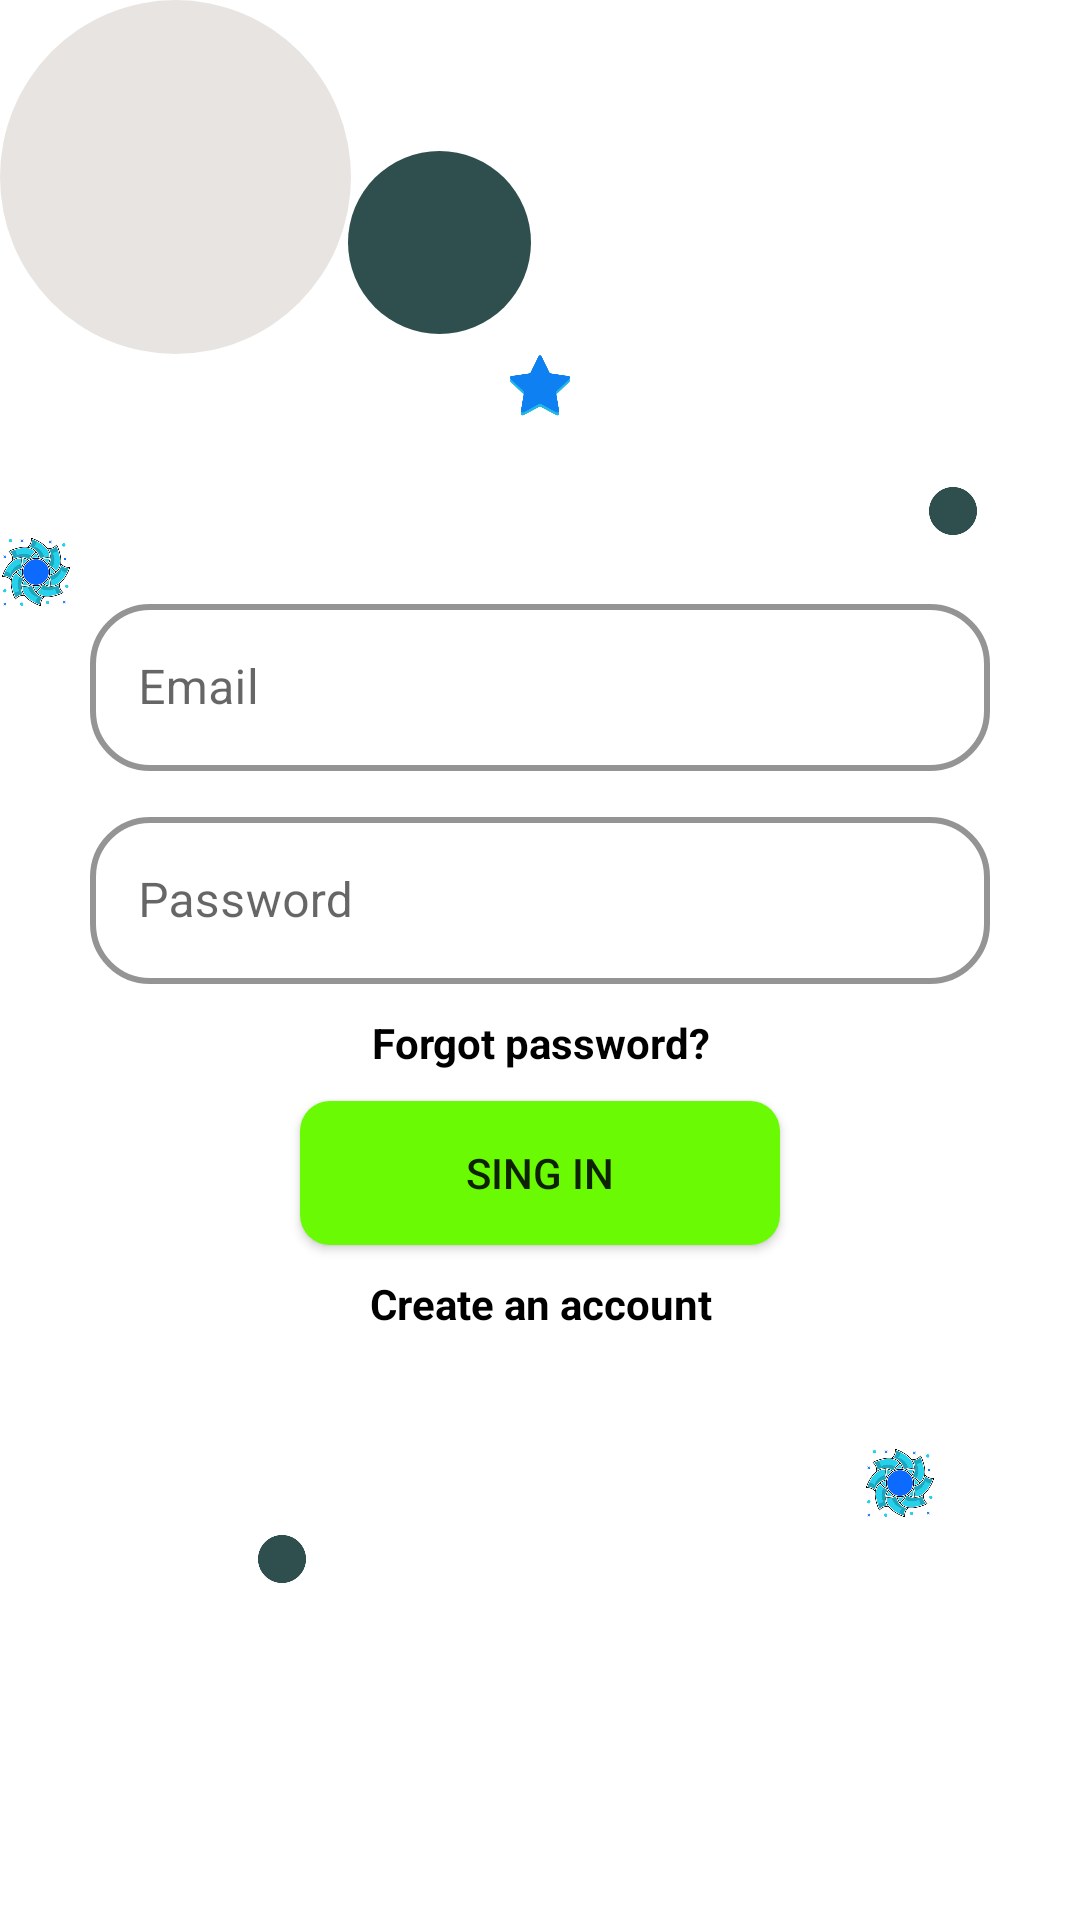

Where to tap for icons on this 1080×1920 app screen, as (x,y):
flower: (36,572), (900,1483)
star: (540,385)
